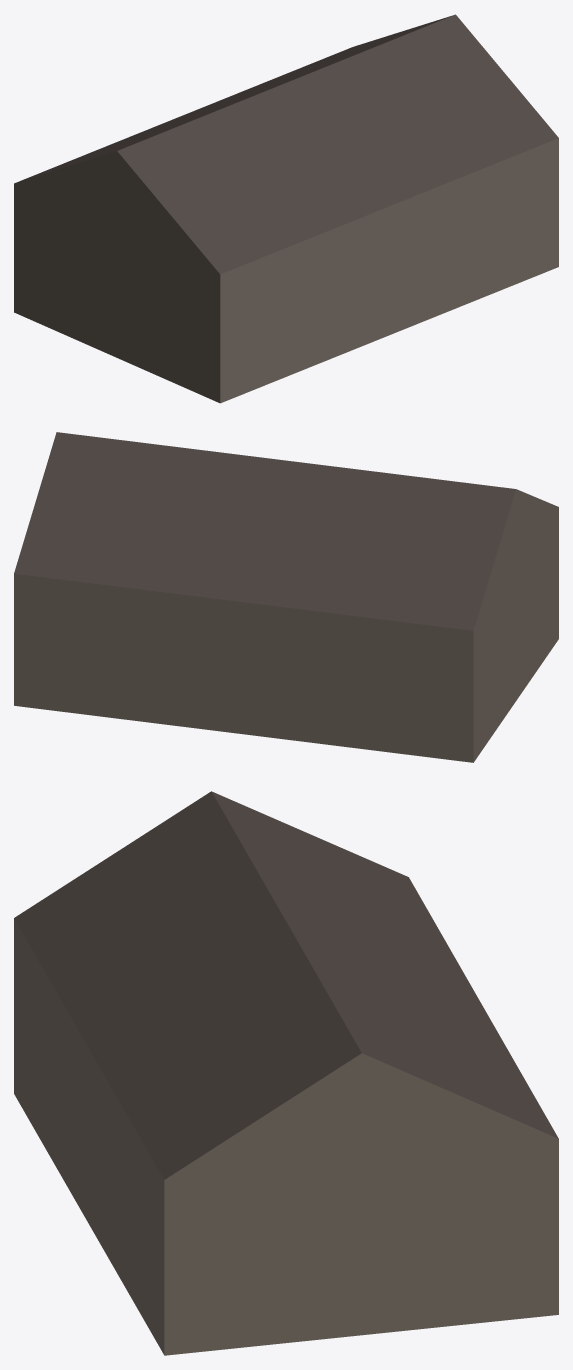
3 views of the same model, one above another, from view 1: azimuth 30°, elevation 25°; view 2: azimuth 150°, elevation 25°; view 3: azimuth 270°, elevation 25° (orthographic). The views are drawn at different scales.
Visible parts, largest first — view 1: HP-w1367350991; view 2: HP-w1367350991; view 3: HP-w1367350991.
Part boxes in pixels (x1,y1,x2,y2): HP-w1367350991: (14,14,558,403); HP-w1367350991: (14,432,558,762); HP-w1367350991: (14,791,558,1355).
Size of the model in its own units: 22.17 by 9.63 by 16.86.
